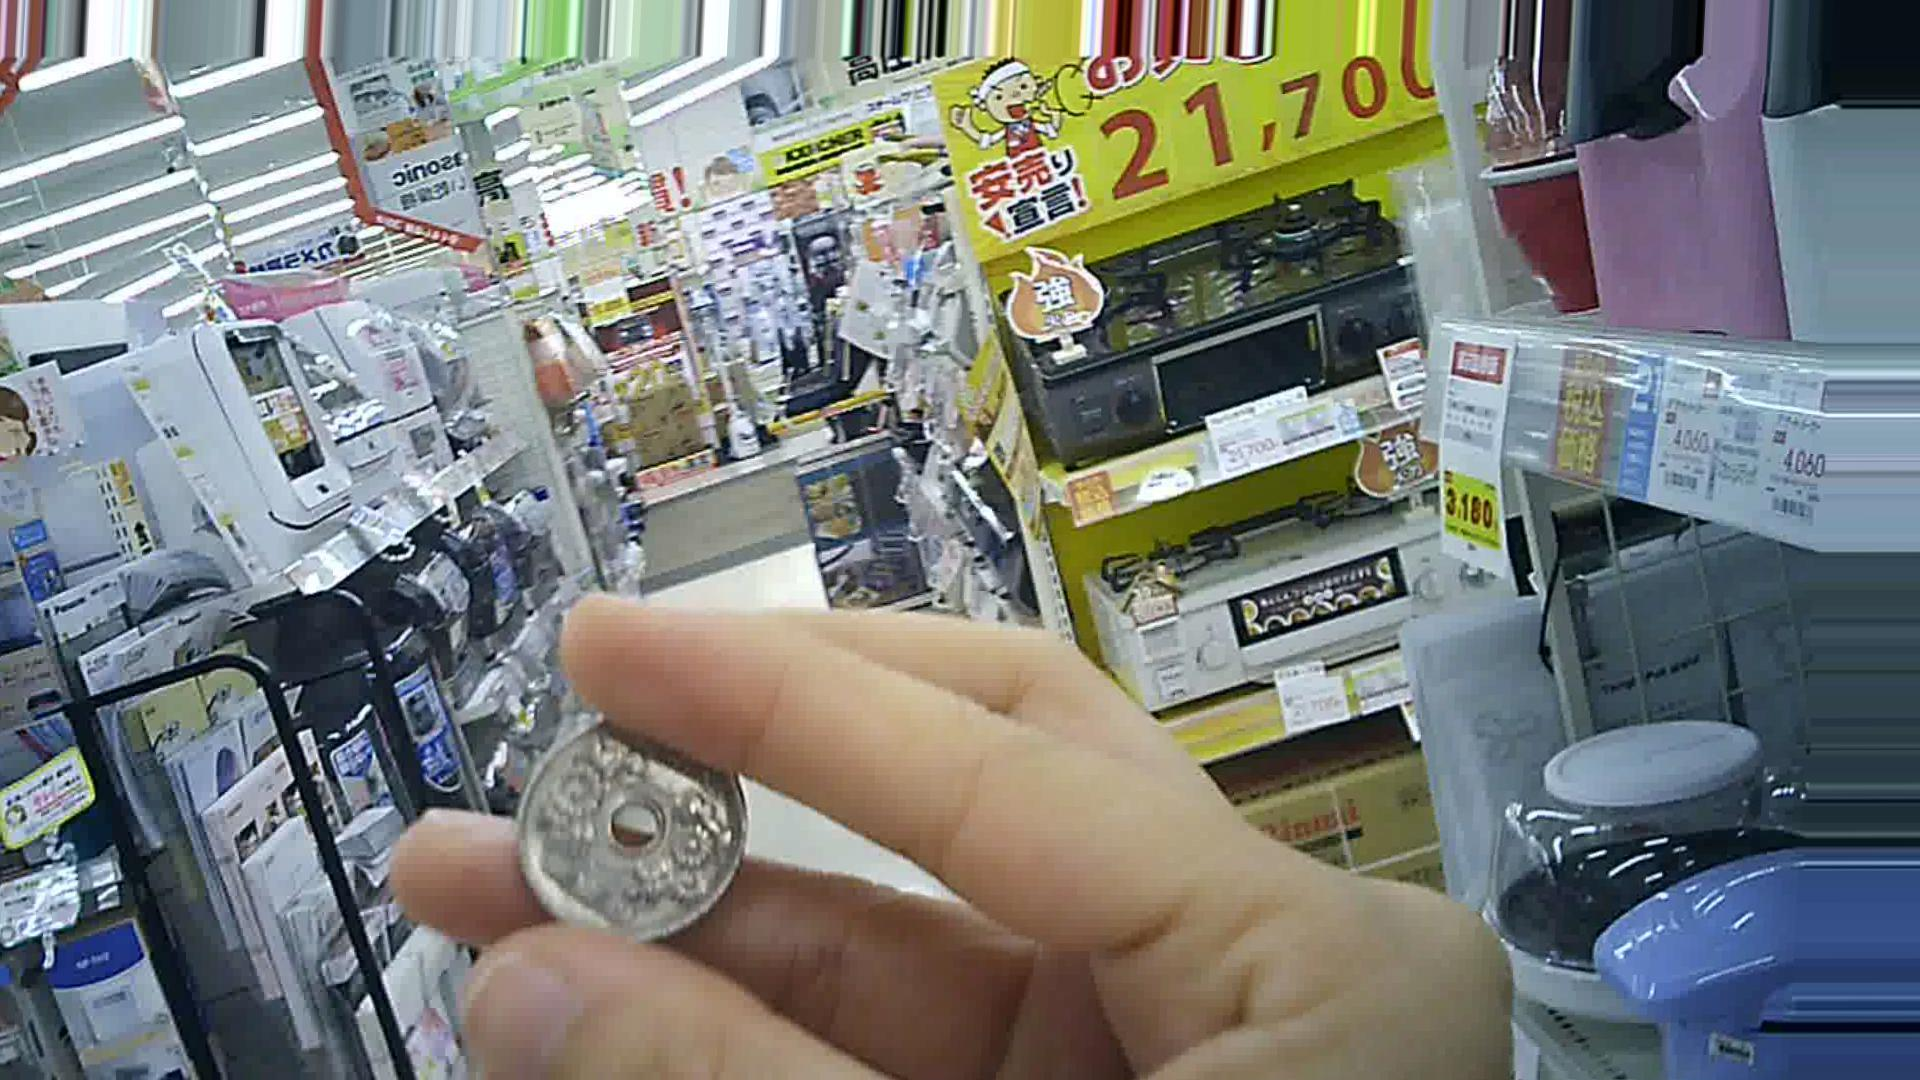50 Yen: (508, 708, 742, 952)
